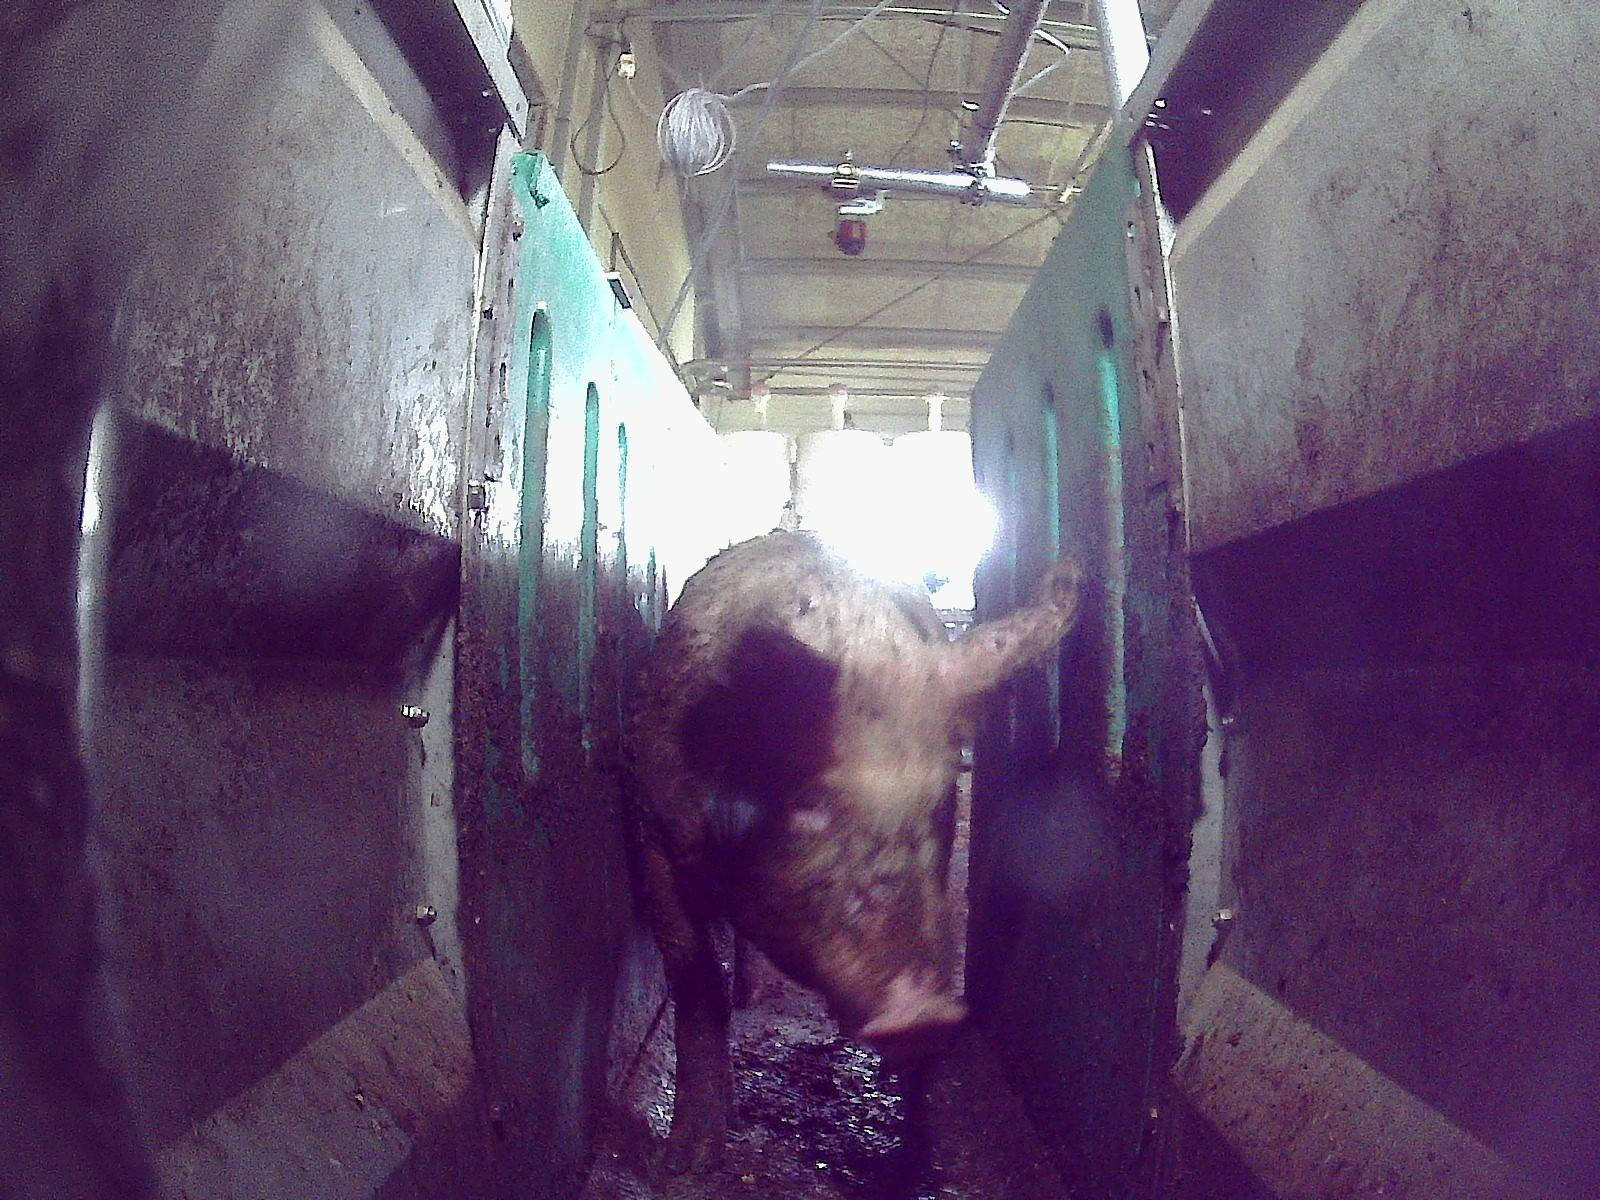Face: (749, 691, 970, 1061)
